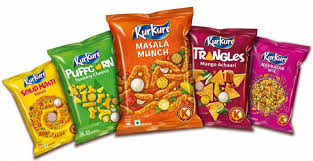kurkure: (262, 50, 295, 66), (132, 26, 172, 39), (204, 34, 236, 50), (25, 74, 47, 85), (75, 55, 111, 61)
plastic: (118, 19, 191, 135), (192, 31, 256, 115), (54, 52, 120, 130), (12, 73, 74, 146), (257, 35, 301, 133)
